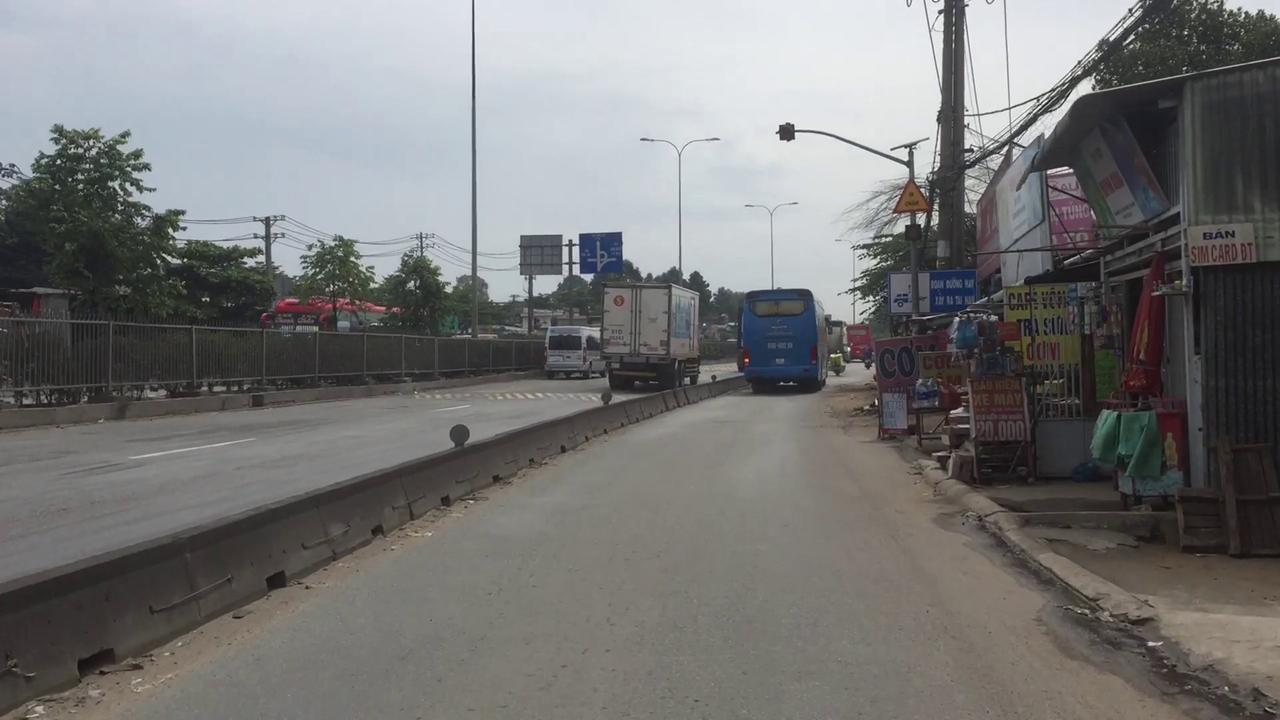R.301d: (889, 177, 933, 215)
